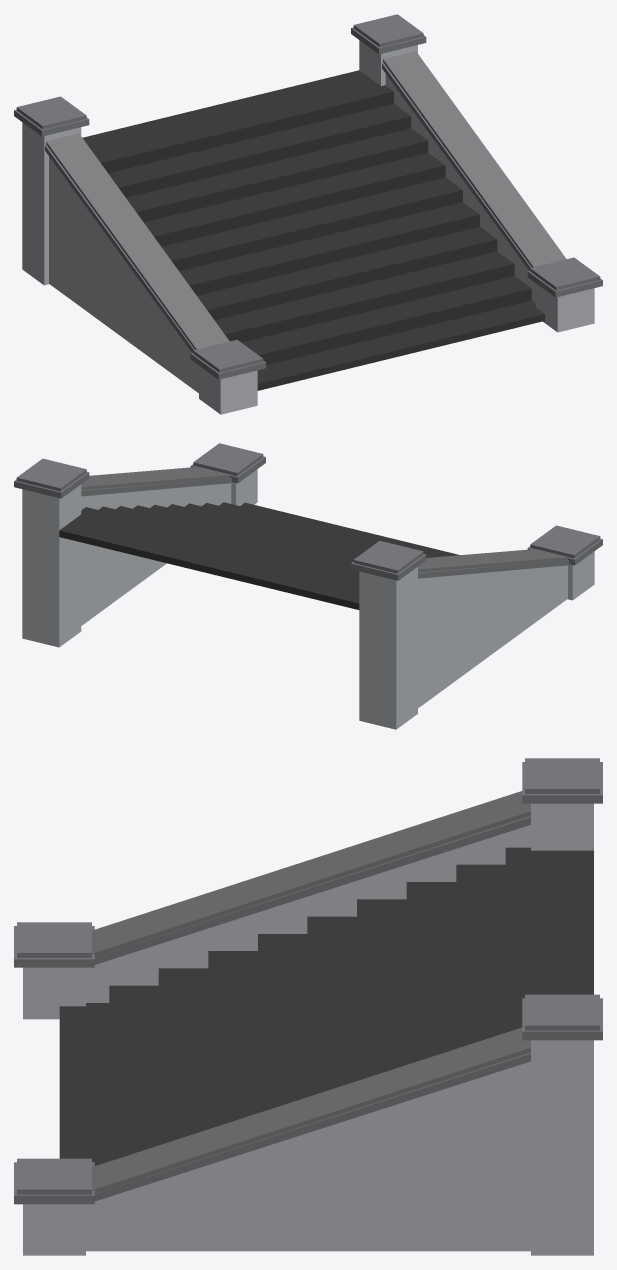
Rendered from SM_stairs_platform_01.fbx.
The picture shows the model from 3 angles, top to bottom: view 1: azimuth 30°, elevation 25°; view 2: azimuth 150°, elevation 25°; view 3: azimuth 270°, elevation 25°; orthographic projection. The views are drawn at different scales.
Parts seen in each view (by area): view 1: Box237; view 2: Box237; view 3: Box237.
Boxes of the visible parts, x1,y1,x2,y2 form: Box237: (14,14,602,414); Box237: (14,443,602,729); Box237: (14,758,602,1255).
Bounding box in the file's own units: 143 × 132 × 57.49.
